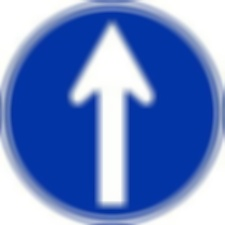Direction_sign: (2, 3, 225, 222)
